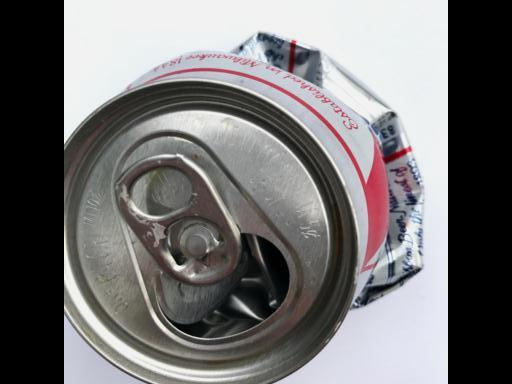metal: (66, 29, 427, 384)
